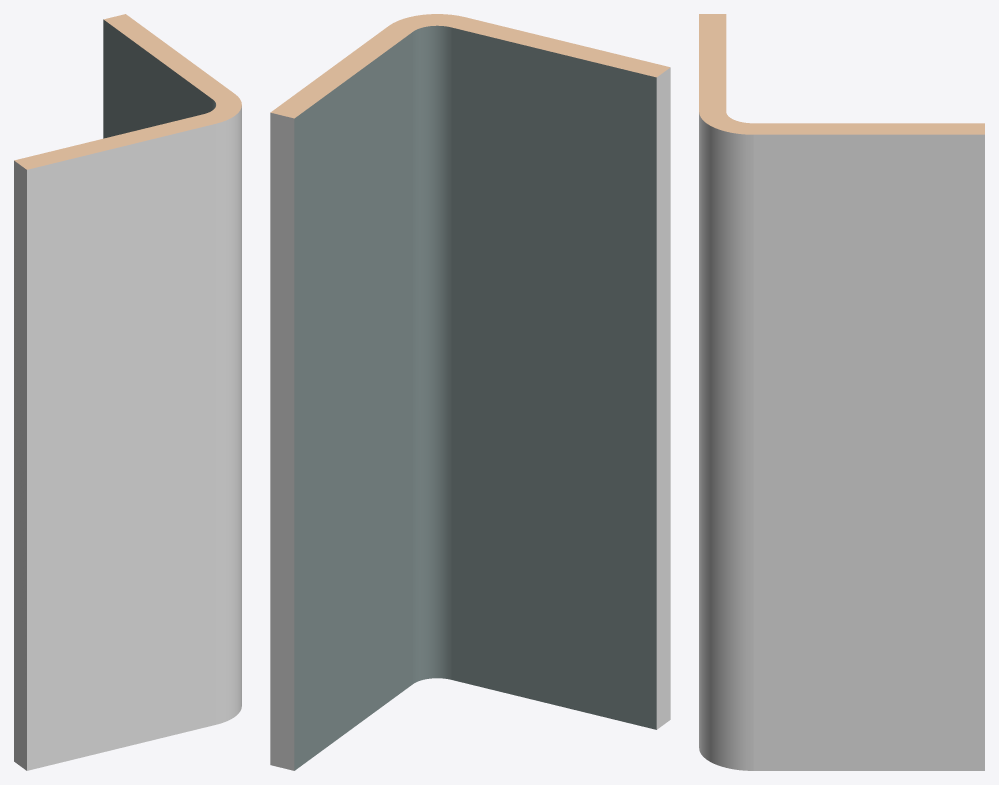
The model's file is wallCornerRond-col.glb.
3 renders of one model, left to right at view 1: azimuth 30°, elevation 25°; view 2: azimuth 150°, elevation 25°; view 3: azimuth 270°, elevation 25°, orthographic. The views are drawn at different scales.
Parts seen in each view (by area): view 1: wallCornerRond-col; view 2: wallCornerRond-col; view 3: wallCornerRond-col.
Part boxes in pixels (box(x1,y1,x2,y2)): wallCornerRond-col: box(14, 14, 241, 770); wallCornerRond-col: box(270, 14, 670, 770); wallCornerRond-col: box(699, 14, 984, 770).
Size of the model in its own units: 0.525 by 1.29 by 0.525.
